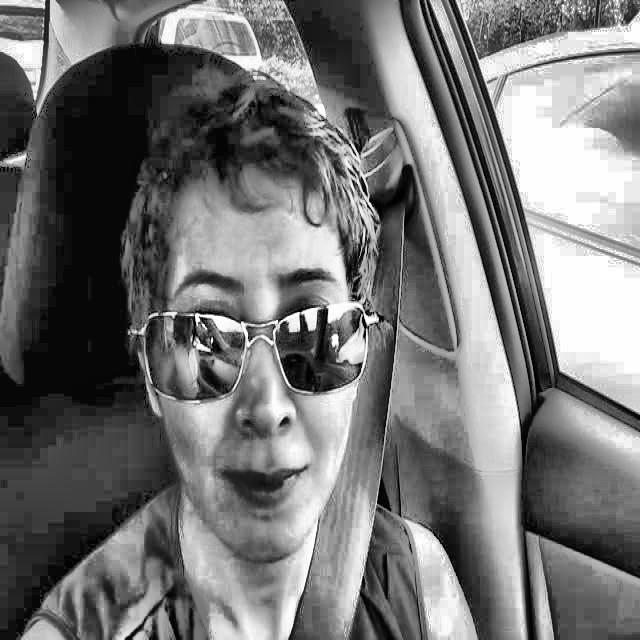closed_mouth: (187, 445, 334, 534)
